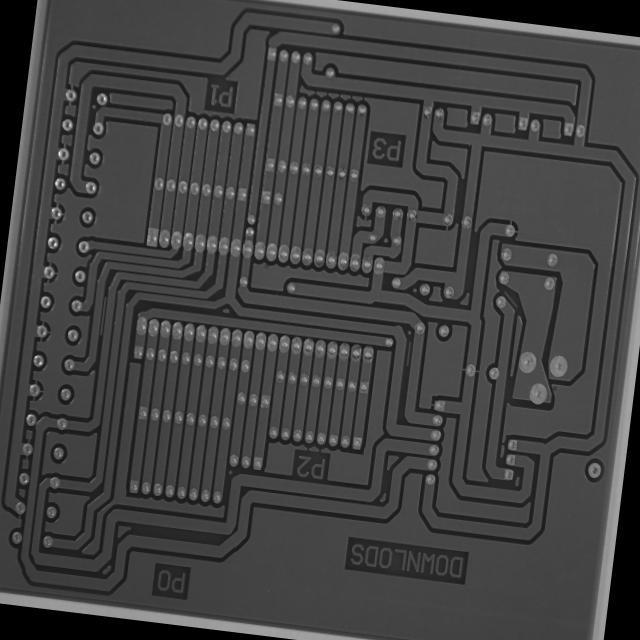spurious_copper: (97, 294, 109, 339), (500, 288, 520, 310), (402, 338, 414, 367)
